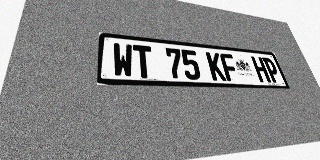5: (180, 49, 202, 80)
7: (164, 48, 185, 79)
F: (219, 53, 240, 81)
H: (251, 56, 271, 82)
K: (205, 52, 227, 81)
P: (262, 57, 282, 83)
T: (133, 44, 154, 78)
W: (113, 42, 134, 78)
